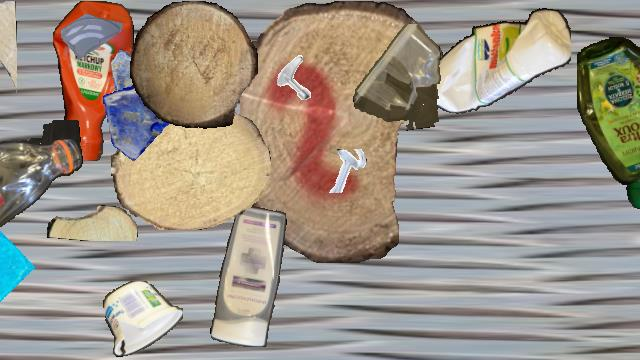glass: (101, 79, 185, 163), (61, 1, 123, 63), (0, 225, 39, 313), (111, 46, 167, 102)
metal: (271, 52, 323, 104), (324, 149, 368, 193)
plastic: (412, 1, 570, 121), (53, 1, 133, 161), (209, 206, 287, 346), (577, 37, 640, 209), (0, 120, 83, 238), (351, 24, 443, 130), (103, 281, 183, 357)
wood: (240, 1, 444, 263), (111, 109, 271, 229), (130, 1, 258, 129), (47, 205, 137, 241), (0, 1, 17, 97)
